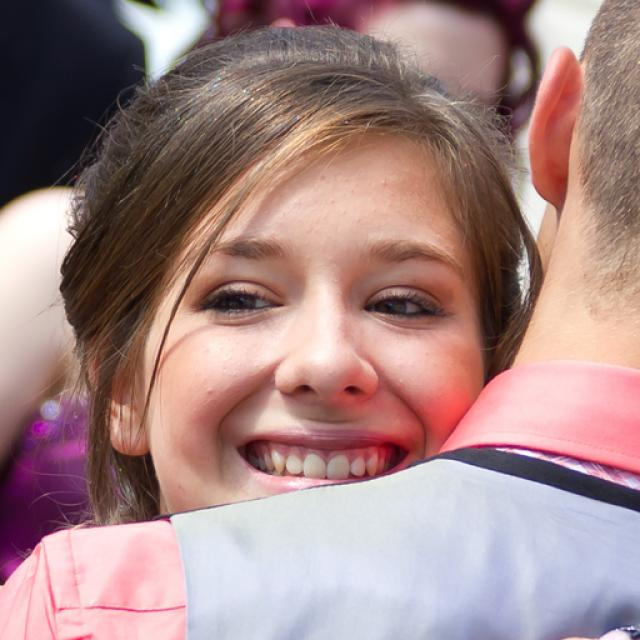Acne: (199, 382, 215, 402), (374, 174, 393, 190), (327, 198, 338, 212)
